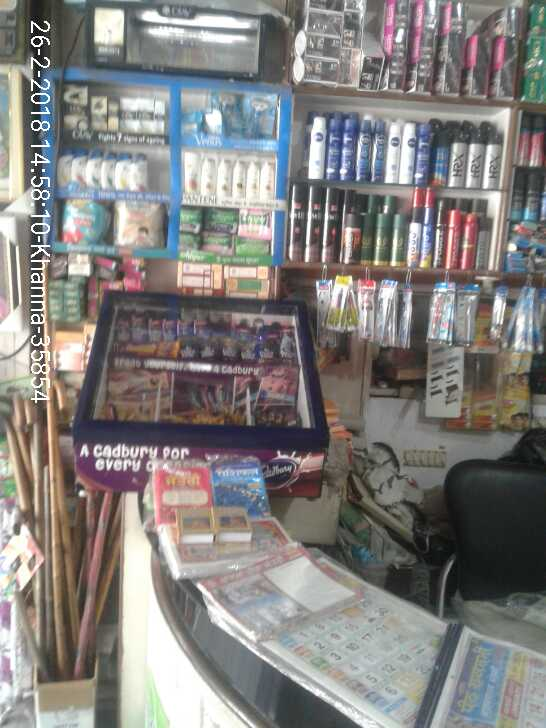venus: (209, 87, 243, 140), (243, 92, 275, 140), (180, 111, 208, 135)
